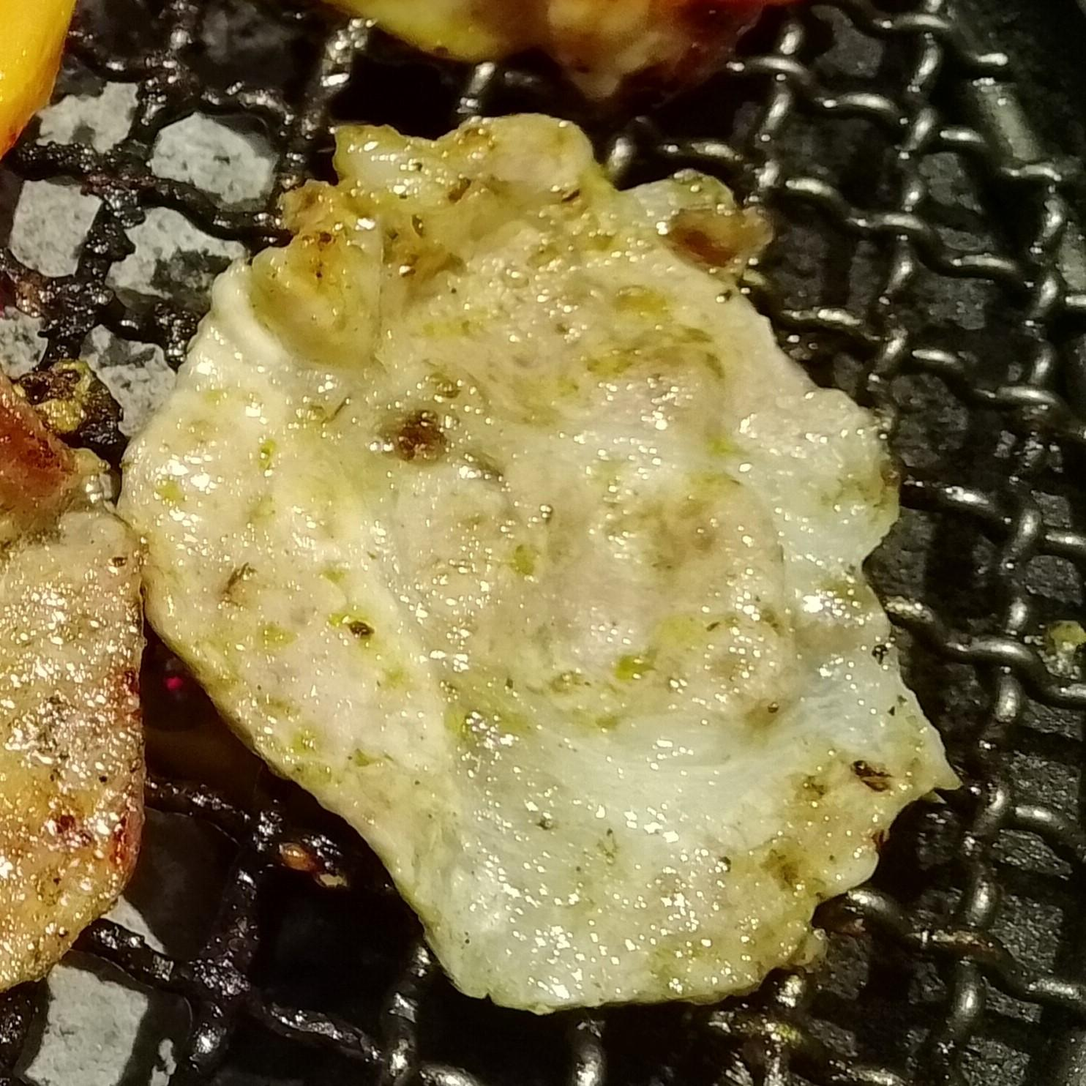Well-Cooked: (119, 116, 955, 1014), (0, 370, 146, 998)
